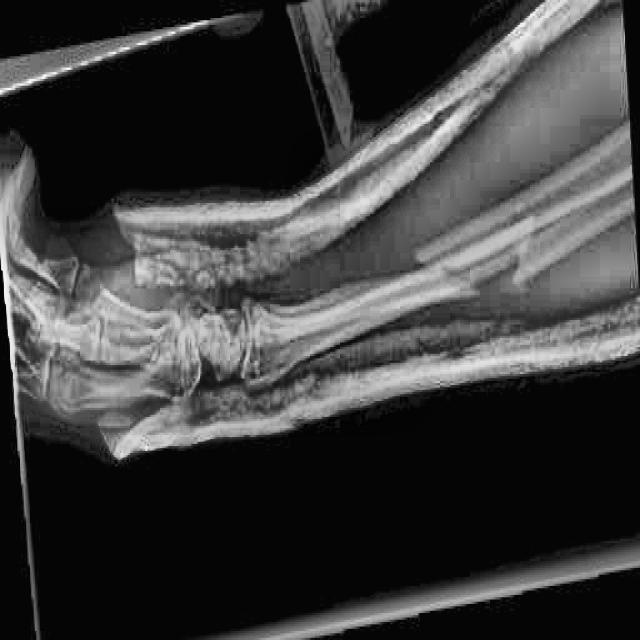forearm fracture: (393, 205, 503, 328), (491, 194, 558, 309)
